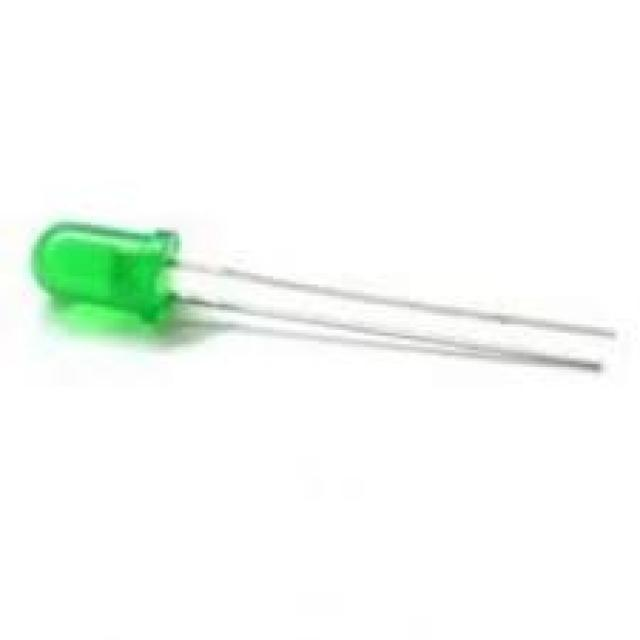Led: (31, 222, 355, 334)
